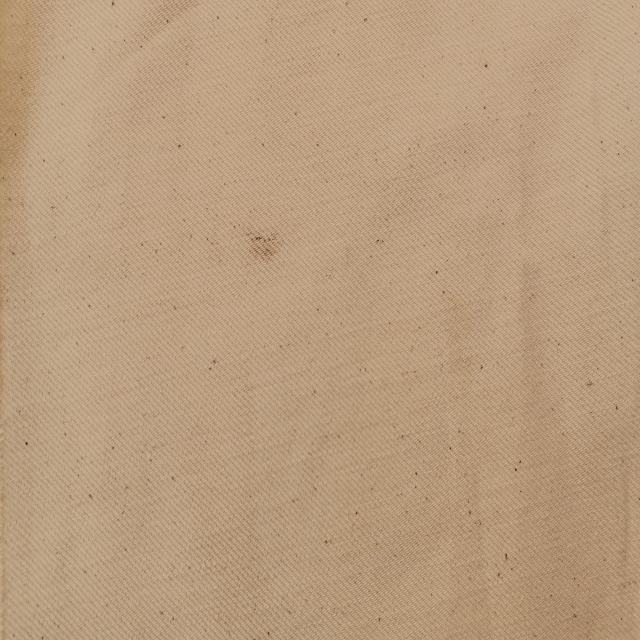taaaches: (244, 212, 289, 277)
